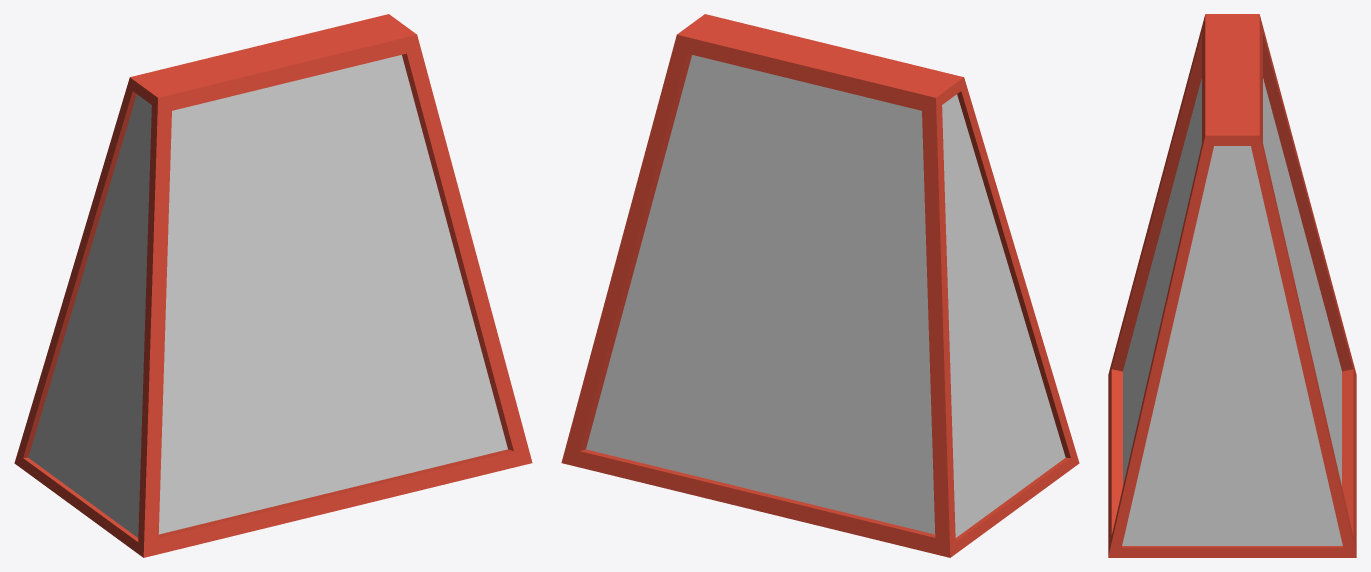
The model's file is GarbagePocketReady.fbx.
3 renders of one model, left to right at view 1: azimuth 30°, elevation 25°; view 2: azimuth 150°, elevation 25°; view 3: azimuth 270°, elevation 25°, orthographic. The views are drawn at different scales.
Visible parts, largest first — view 1: Cube.001; view 2: Cube.001; view 3: Cube.001.
Boxes of the visible parts, x1,y1,x2,y2 form: Cube.001: [14, 14, 532, 557]; Cube.001: [561, 14, 1079, 557]; Cube.001: [1108, 14, 1356, 557].
Size of the model in its own units: 200 by 200 by 115.
